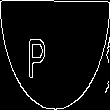P_N: (45, 29, 65, 81)
